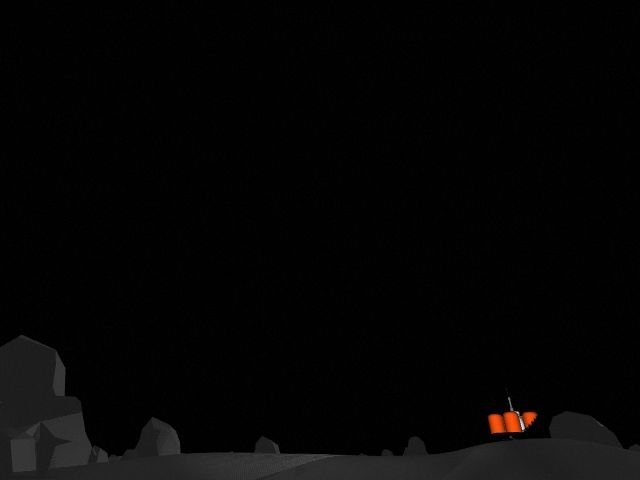homebase: (475, 385, 559, 472)
